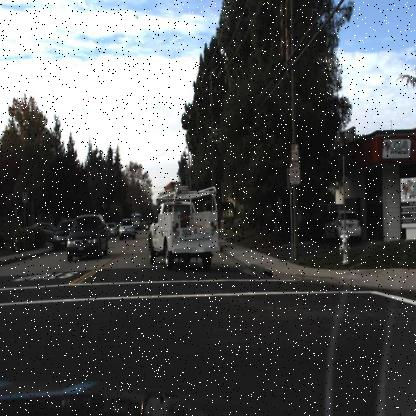car: (144, 163, 230, 292), (66, 213, 108, 259), (324, 209, 358, 240), (29, 214, 56, 237), (118, 215, 140, 243)
truck: (146, 186, 219, 271)
